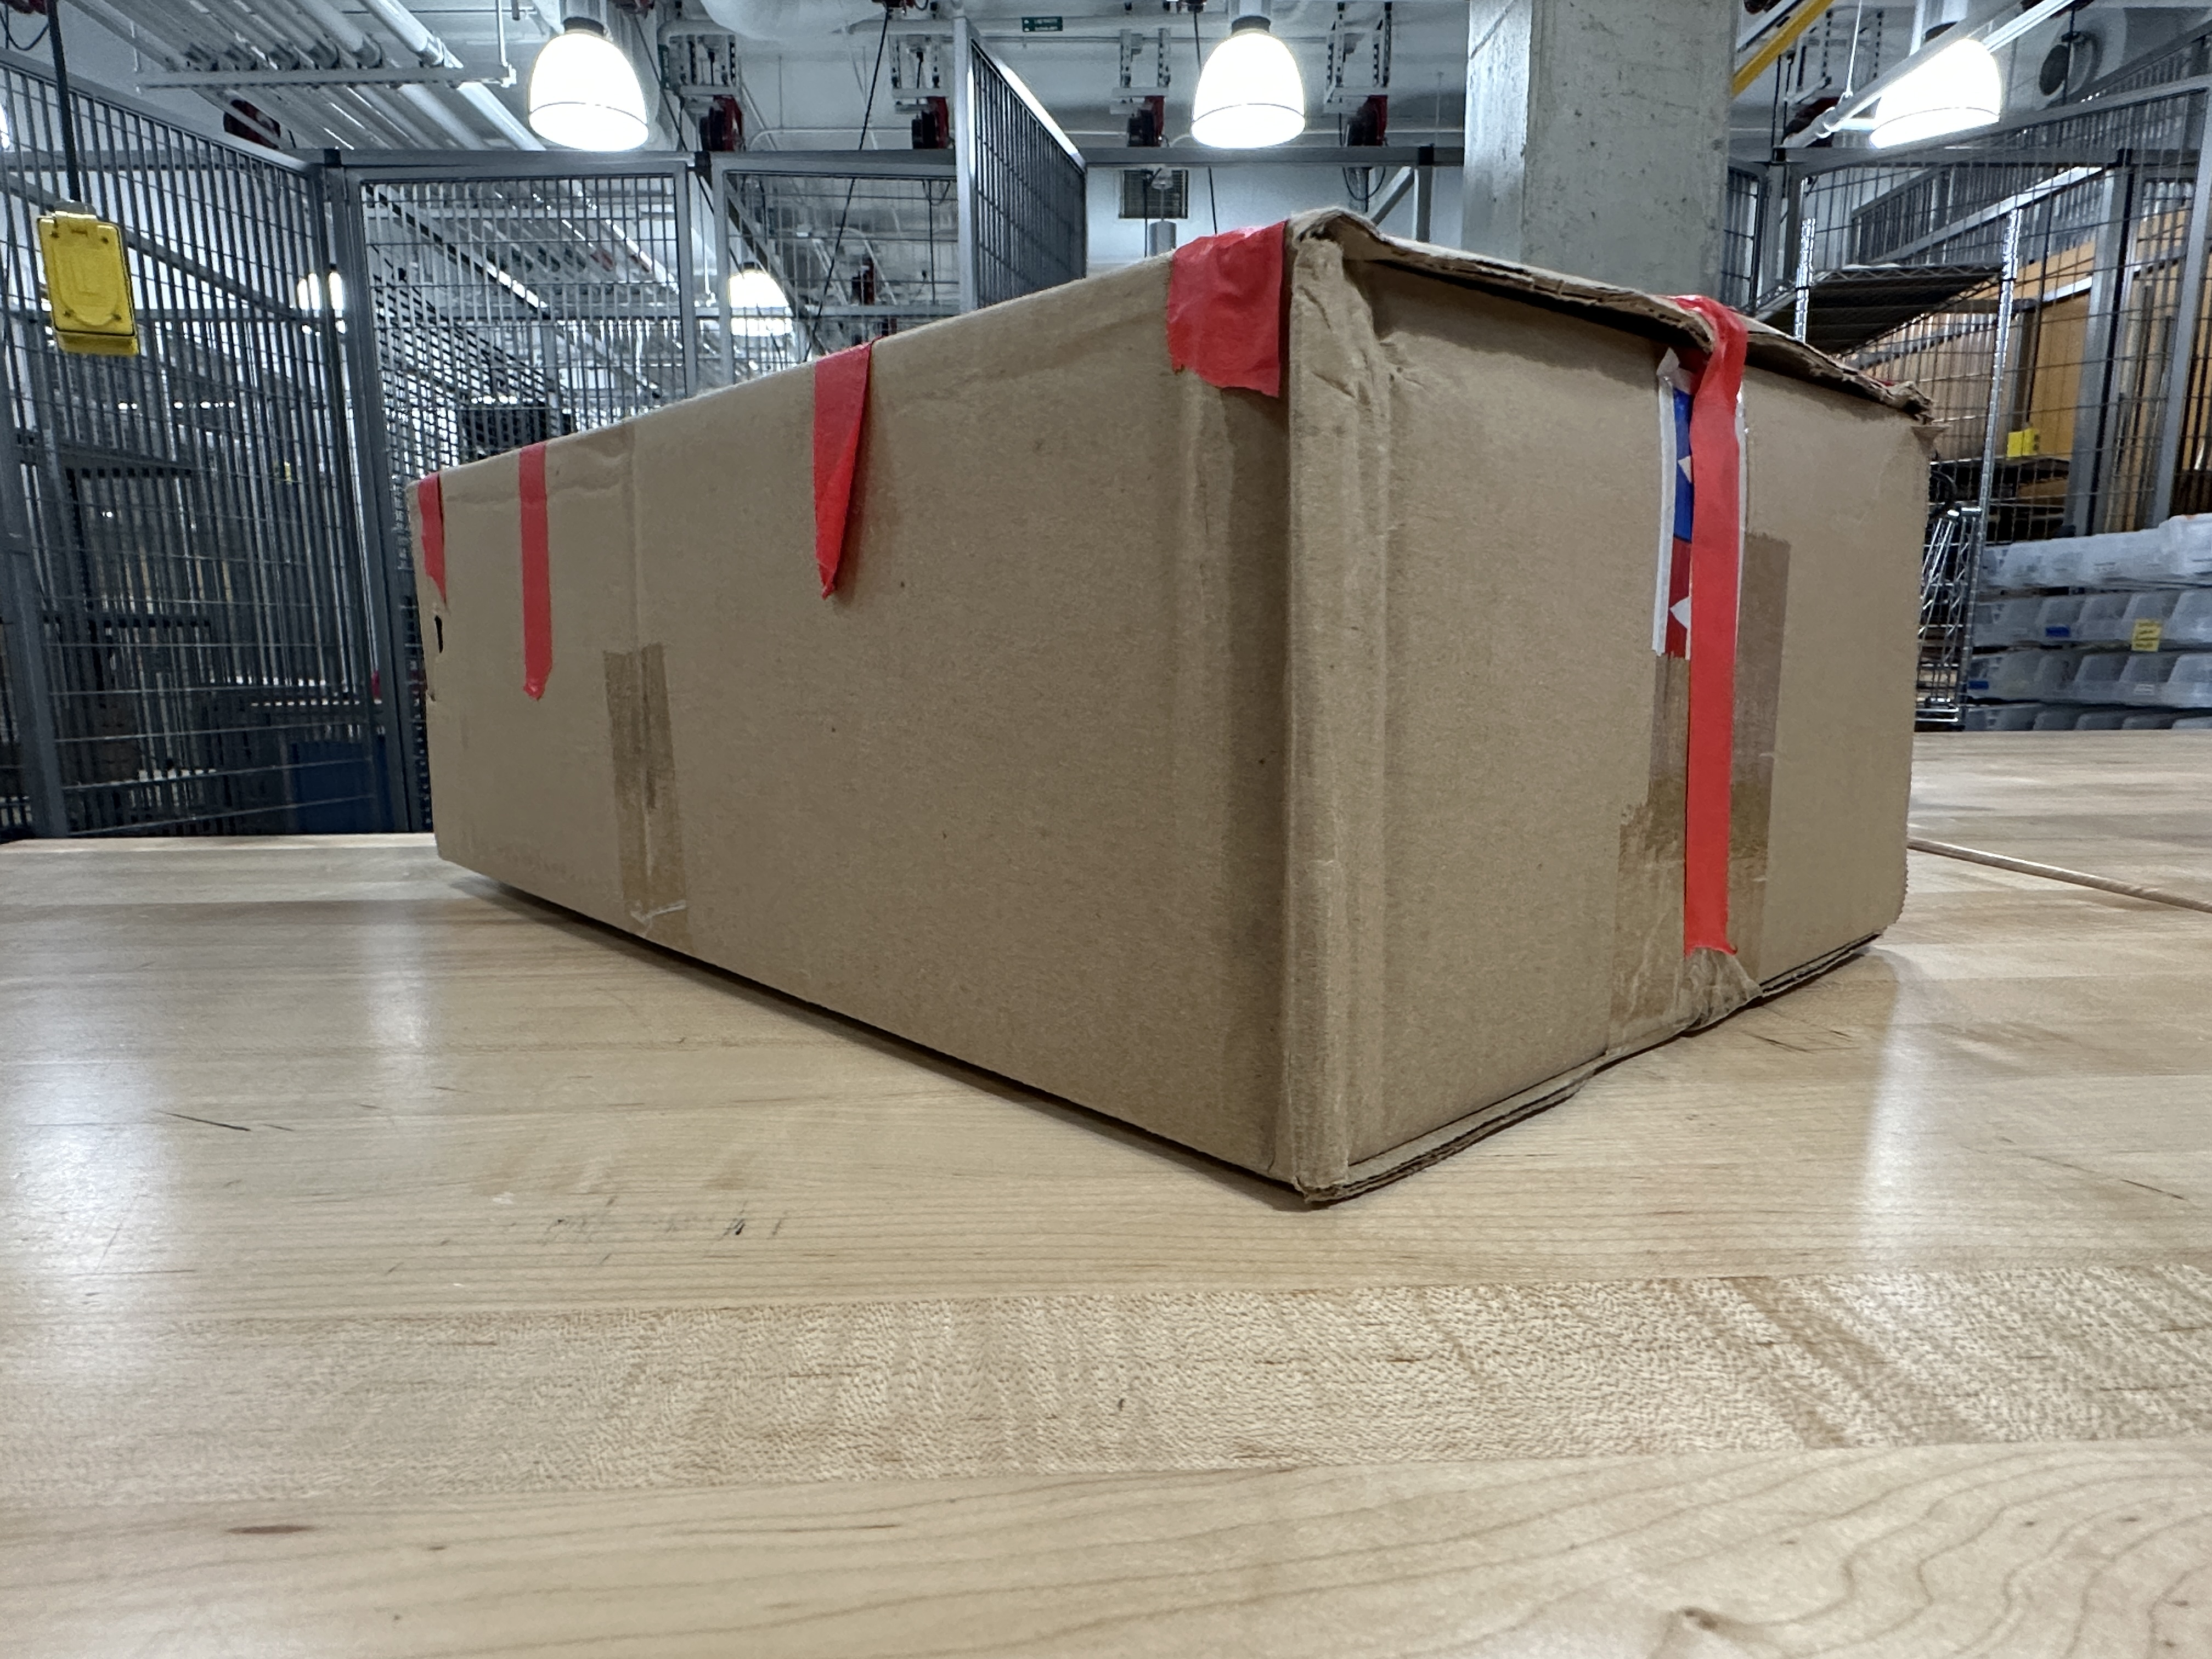Box_Obstacle: (415, 199, 1940, 1232)
